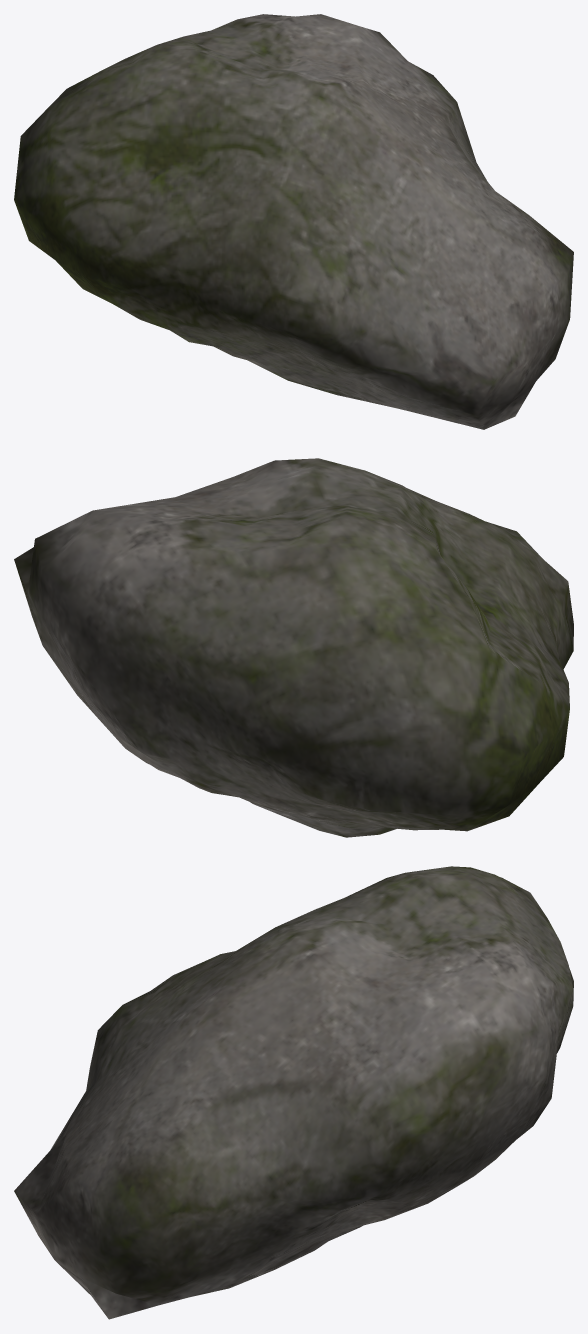
Rendered from rock8.glb.
3 views of the same model, one above another, from view 1: azimuth 30°, elevation 25°; view 2: azimuth 150°, elevation 25°; view 3: azimuth 270°, elevation 25° (orthographic). The views are drawn at different scales.
Visible parts, largest first — view 1: rock8_low_rocks_texture_0; view 2: rock8_low_rocks_texture_0; view 3: rock8_low_rocks_texture_0.
Boxes of the visible parts, x1,y1,x2,y2 form: rock8_low_rocks_texture_0: [14, 14, 573, 429]; rock8_low_rocks_texture_0: [14, 458, 573, 837]; rock8_low_rocks_texture_0: [14, 866, 573, 1319].
Bounding box in the file's own units: 1.06 × 0.7482 × 1.1.
1 material, 1 textured.
